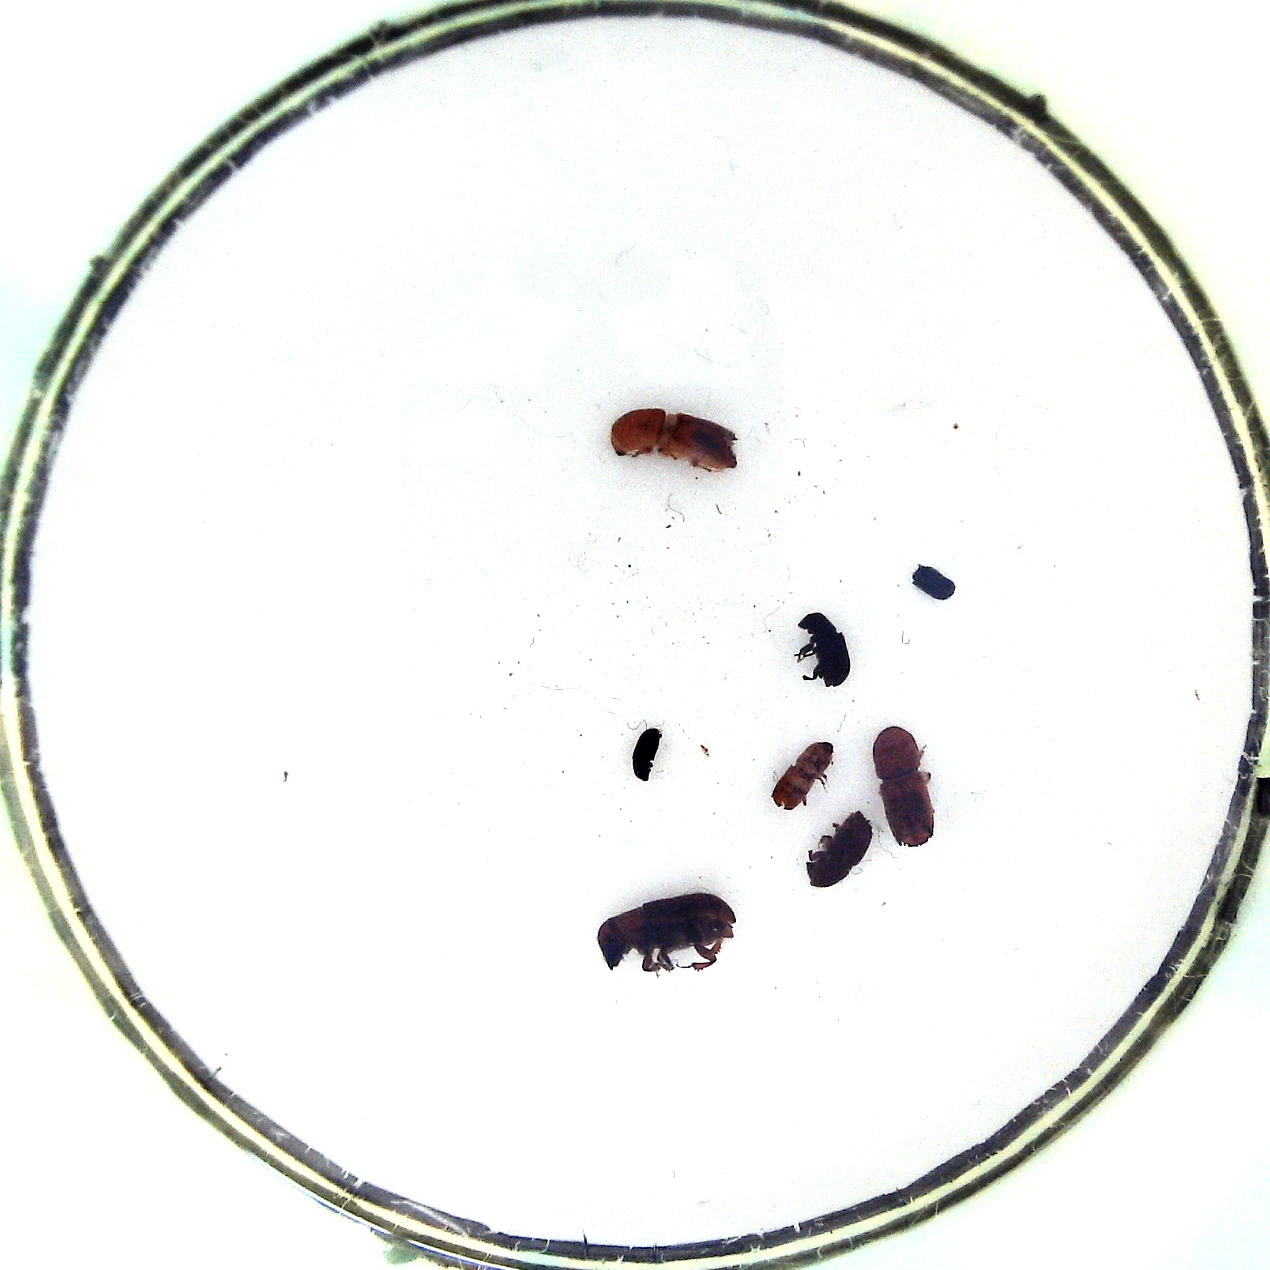Boerner: (602, 398, 743, 477), (875, 725, 941, 852)
Leconte: (593, 889, 737, 983)
Linnaeus: (802, 804, 875, 893)
acuminatus: (769, 737, 834, 814)
armandi: (797, 609, 852, 691)
coleoptera: (629, 721, 668, 786), (908, 562, 962, 601)
